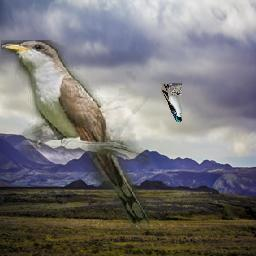Cuckoo: (1, 40, 149, 232)
Swallow: (162, 84, 183, 123)
